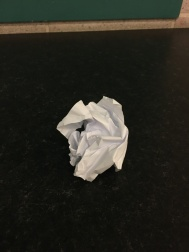paper_white: (47, 87, 137, 190)
